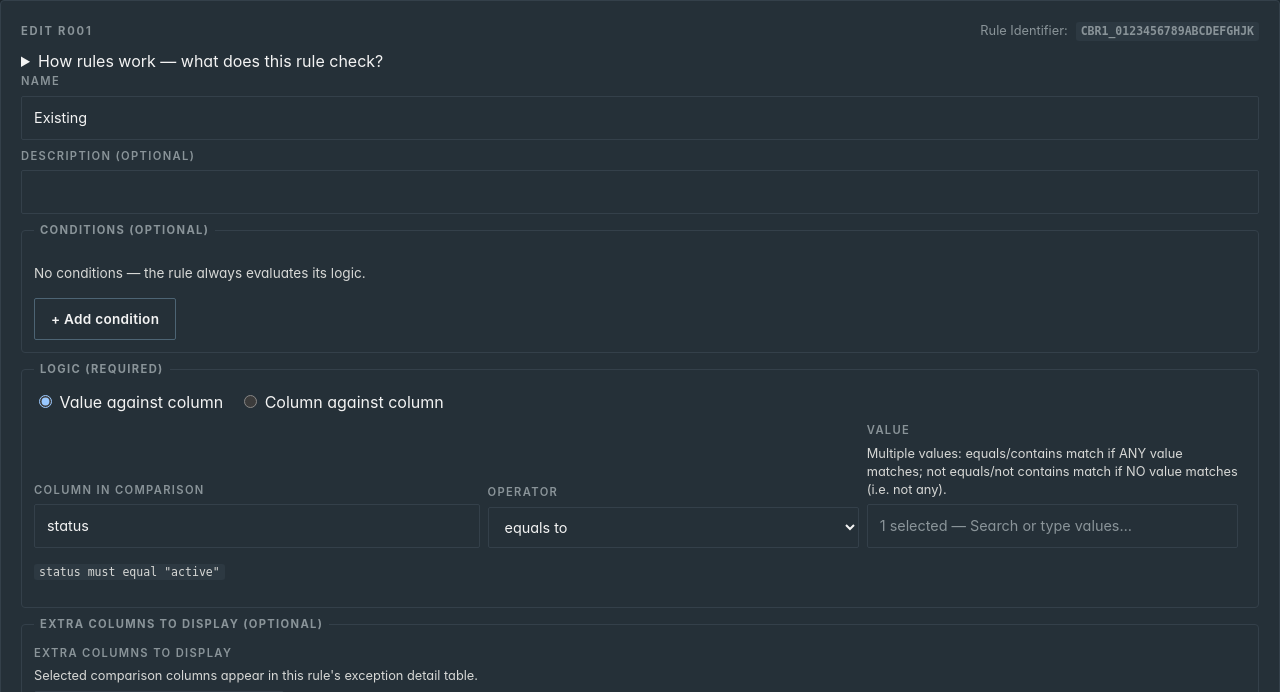
Test: RuleEditor › rejects a blank name when editing an existing rule
The image size is (1280, 692).
Clear the field labelled "Name" at (640, 118), box [21, 96, 1259, 140]
(page scrolled)
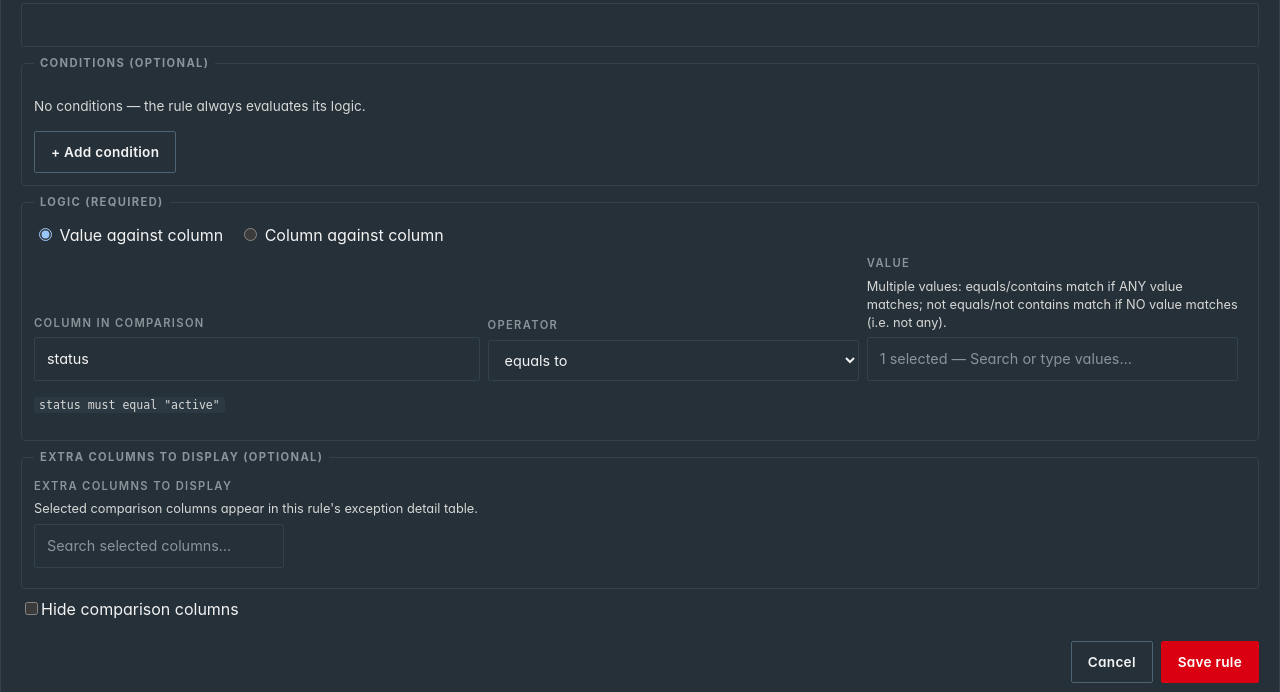
Click the button "Save rule".
click(1210, 662)  # box [1161, 641, 1259, 683]
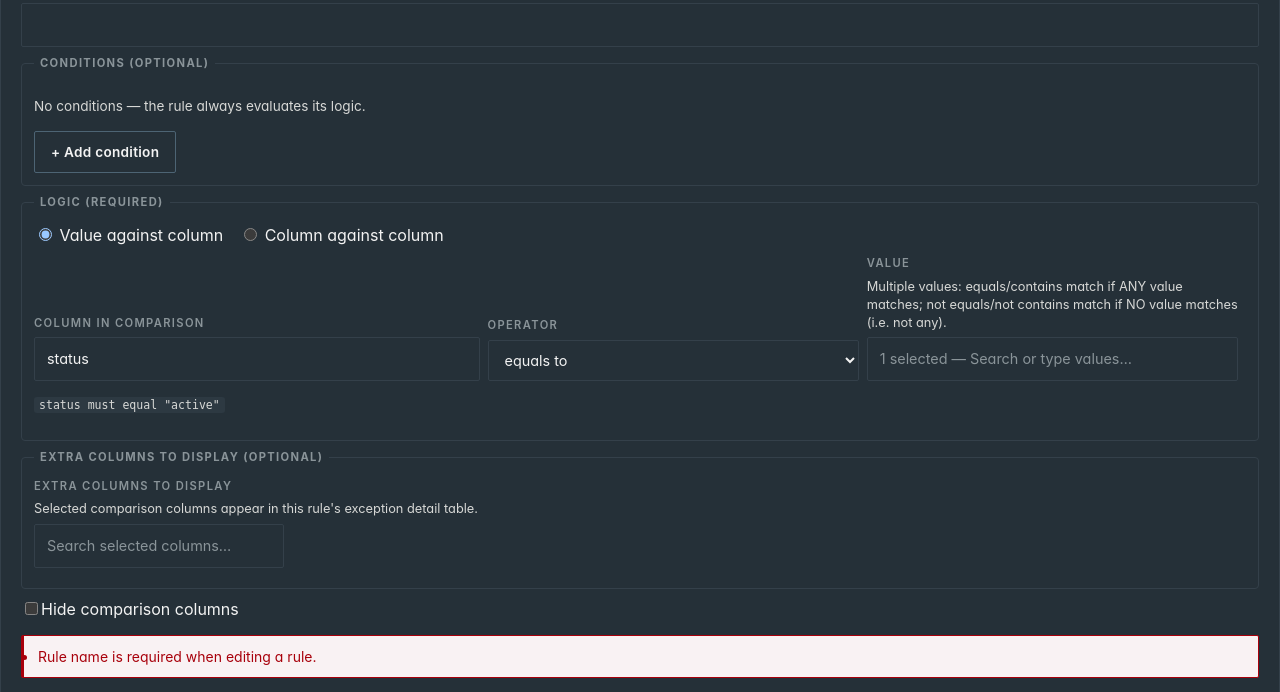
Now the list item "Rule name is required when editing a rule." is shown, box [38, 648, 316, 665]
